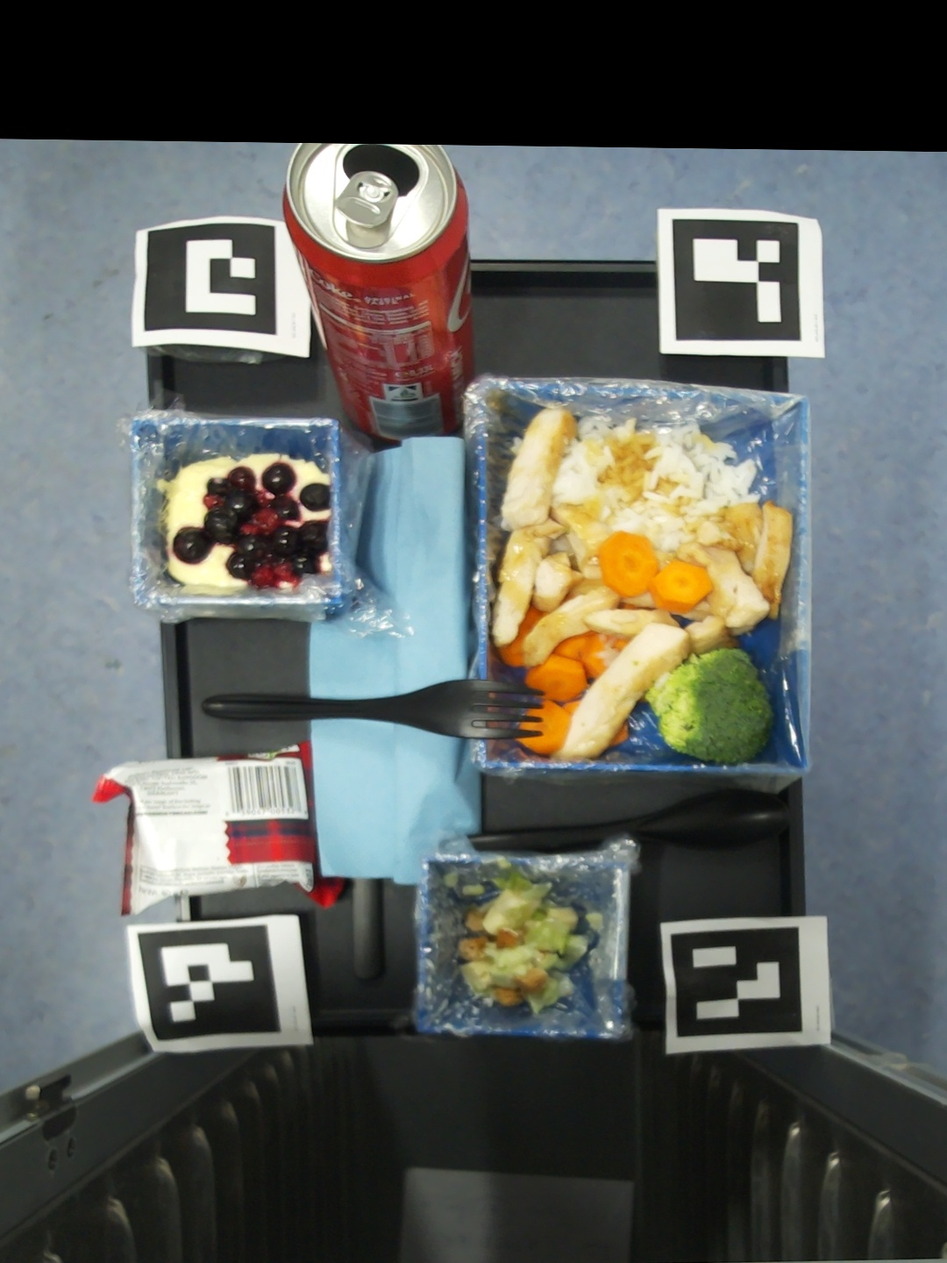broccoli: (642, 647, 774, 765)
carrots: (513, 632, 607, 755), (499, 608, 542, 668), (612, 639, 631, 652)
chicken: (492, 408, 793, 760), (599, 532, 713, 613)
cola_can: (283, 142, 476, 446)
cookie: (91, 741, 346, 915)
rice: (551, 415, 760, 570), (590, 631, 620, 667), (670, 598, 711, 622), (653, 671, 673, 688), (509, 437, 522, 456)
side_salad: (459, 872, 586, 1018), (584, 915, 603, 933), (461, 882, 484, 894), (444, 869, 459, 887)
vanilla_pudding_with_fruits: (157, 454, 333, 591)
